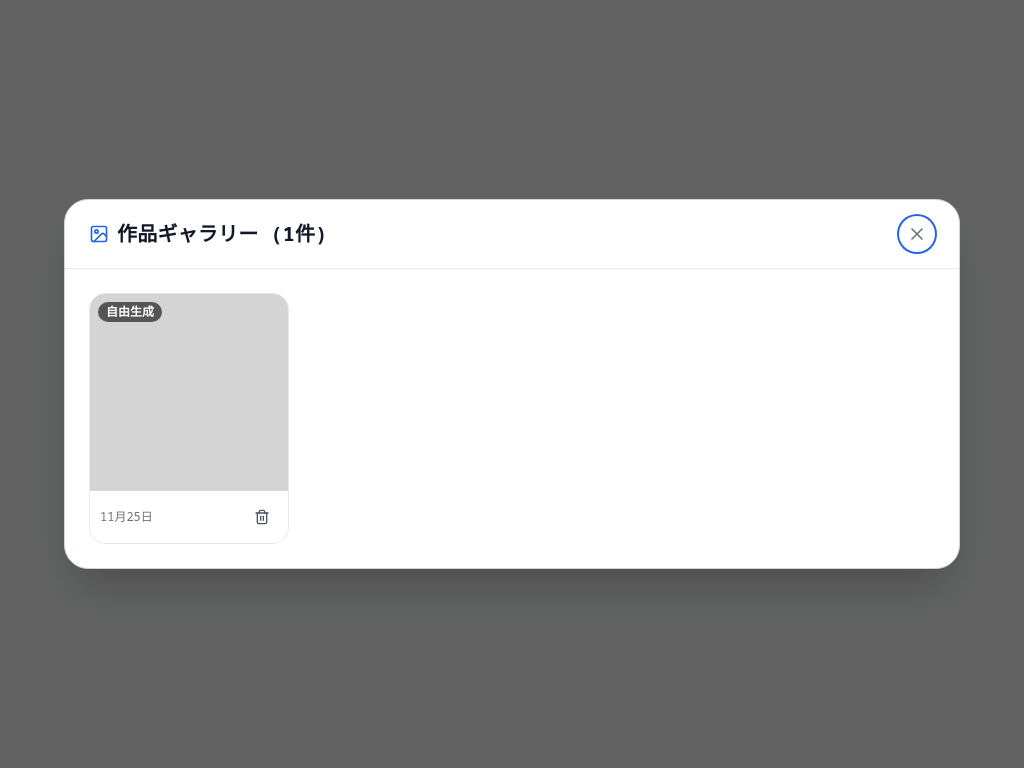
Test: GalleryModal › removes an item on a successful delete without reloading the gallery
Expected: the text "自由生成" is shown, [98,302,162,322]
Click the button named "削除". click: (262, 517)
box: [246,501,278,533]
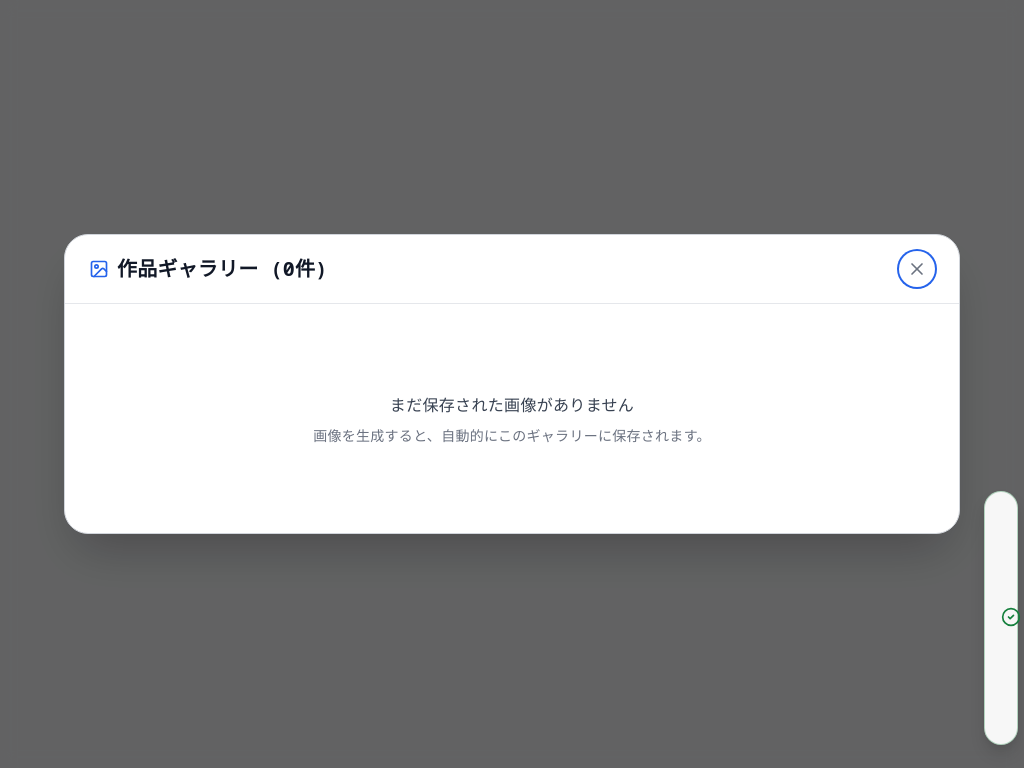
Result: the button "自由生成" is gone
